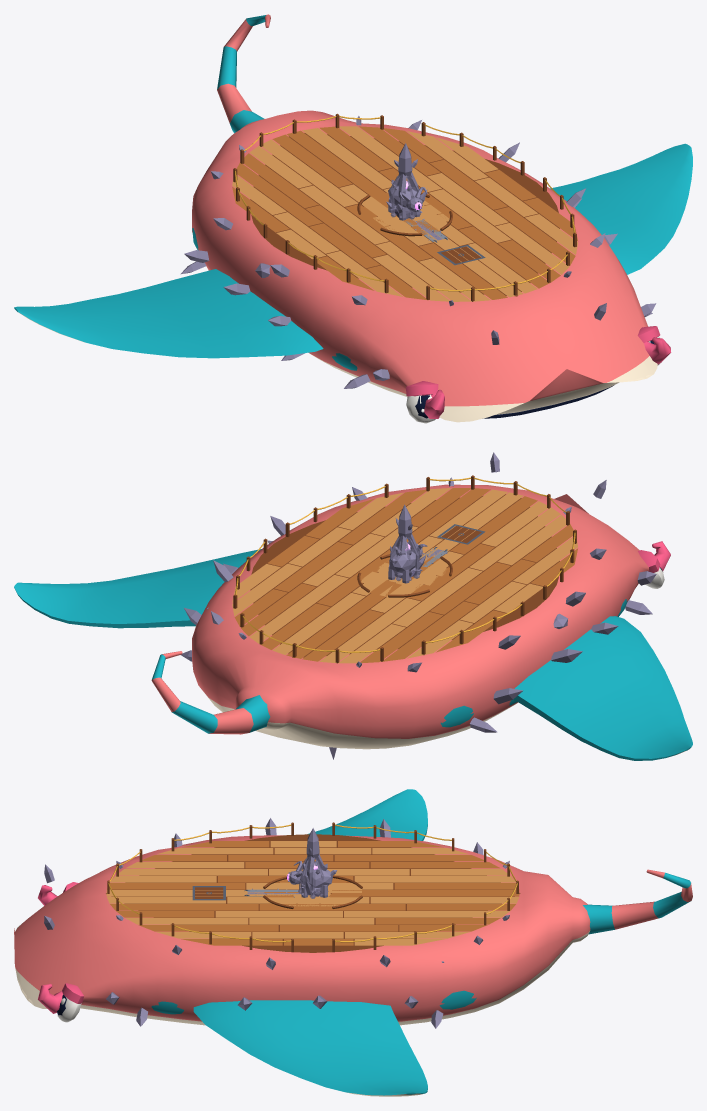
The model's file is gloom.glb.
3 views of the same model, one above another, from view 1: azimuth 30°, elevation 25°; view 2: azimuth 150°, elevation 25°; view 3: azimuth 270°, elevation 25° (orthographic). The views are drawn at different scales.
Parts seen in each view (by area): view 1: body (×2), fin_r, fin_l, crust, tail, shell (×2), eye_r; view 2: body (×2), fin_r, fin_l, crust, tail, shell (×2), eye_r; view 3: body (×2), fin_l, fin_r, tail, crust, shell (×2), eye_l.
Boxes of the visible parts, left/top/right/bottom form: body (×2): left=192, top=110, right=671, bottom=422; fin_r: left=14, top=269, right=323, bottom=358; fin_l: left=550, top=143, right=692, bottom=274; crust: left=180, top=116, right=656, bottom=388; tail: left=217, top=14, right=270, bottom=132; shell (×2): left=386, top=143, right=427, bottom=220; eye_r: left=406, top=381, right=438, bottom=423; body (×2): left=192, top=475, right=670, bottom=749; fin_r: left=513, top=616, right=692, bottom=760; fin_l: left=14, top=549, right=261, bottom=628; crust: left=181, top=452, right=656, bottom=759; tail: left=151, top=651, right=270, bottom=734; shell (×2): left=388, top=504, right=427, bottom=583; eye_r: left=638, top=550, right=664, bottom=588; body (×2): left=14, top=822, right=590, bottom=1025; fin_l: left=193, top=1000, right=427, bottom=1096; fin_r: left=307, top=789, right=427, bottom=840; tail: left=583, top=869, right=692, bottom=934; crust: left=44, top=818, right=509, bottom=1028; shell (×2): left=288, top=828, right=337, bottom=897; eye_l: left=57, top=983, right=84, bottom=1022.
Bounding box in the file's own units: 34.63 × 9.94 × 32.69.
